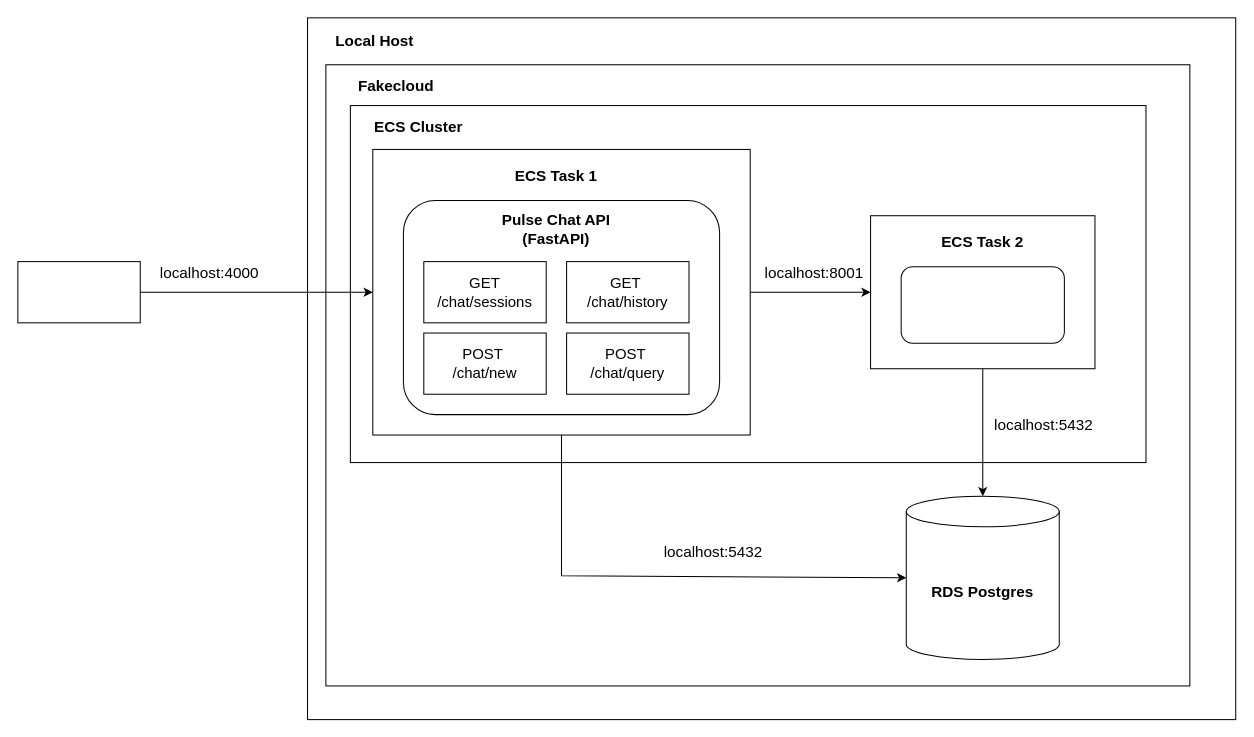
Some shapes in this 1254 by 737 pixel diagram are drawn without their labels. The centre of each missing label's shape, as x and y in pixels:
FastMCP Server: pixel 982 304
Frontend: pixel 78 292
